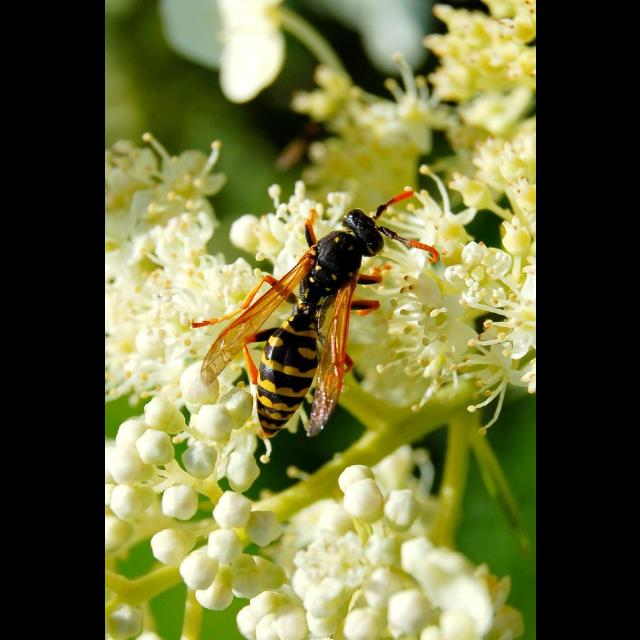Flower: (104, 1, 536, 640), (209, 460, 501, 638), (374, 486, 434, 532)
